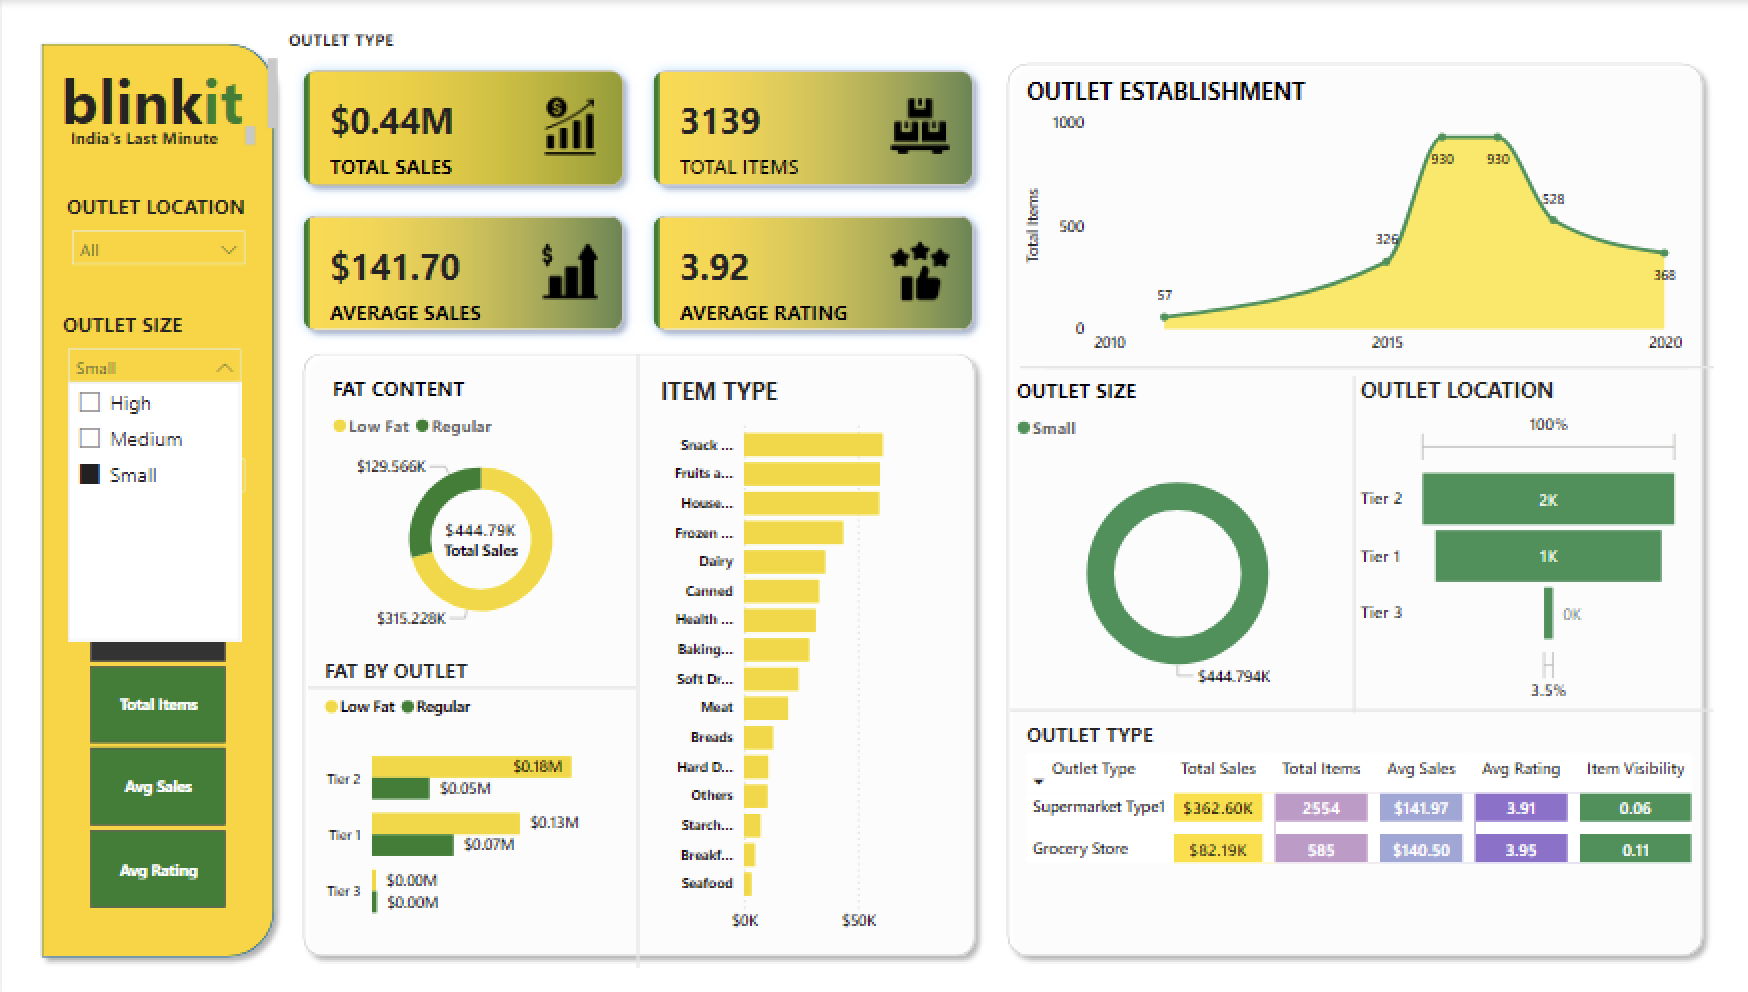

The page's visual inventory and layout, read from the dashboard file:
{"tool":"powerbi","page":{"name":"Dashboard","canvas":[1400,800],"ordinal":0},"visuals":[{"type":"shape","box":[22.7,25.2,204.3,749.2],"z":0},{"type":"textbox","box":[22.4,41.6,203.2,70.4],"z":1000},{"type":"textbox","box":[49.6,96,158.4,30.4],"z":2000},{"type":"cardVisual","title":"OUTLET TYPE","fields":{"Data":["BlinkIT Grocery Data.Total Sales","BlinkIT Grocery Data.Total Items","BlinkIT Grocery Data.Avg Sales","BlinkIT Grocery Data.Avg Rating"]},"box":[224.5,22.8,570.7,260.6],"z":3000},{"type":"shape","box":[232.1,273.9,555.4,500.3],"z":4000},{"type":"donutChart","title":"FAT CONTENT","fields":{"Y":["BlinkIT Grocery Data.Avg Rating"],"Category":["BlinkIT Grocery Data.Item Fat Content"]},"box":[259.2,299.2,248,214.4],"z":5000},{"type":"slicer","title":"METRICS","fields":{"Values":["Metrics.Metrics"]},"box":[44.8,435.2,158.4,297.6],"z":6000},{"type":"cardVisual","fields":{"Data":["BlinkIT Grocery Data.Total Sales"]},"box":[324.8,382.4,116.8,99.2],"z":7000},{"type":"clusteredBarChart","title":"FAT BY OUTLET","fields":{"Y":["BlinkIT Grocery Data.Avg Rating"],"Series":["BlinkIT Grocery Data.Item Fat Content"],"Category":["BlinkIT Grocery Data.Outlet Location Type"]},"box":[252.8,524.8,249.6,230.4],"z":8000},{"type":"shape","box":[245.4,545.9,262.5,9.5],"z":9000},{"type":"shape","box":[502.4,283.2,12.8,491.2],"z":10000},{"type":"clusteredBarChart","title":"ITEM TYPE","fields":{"Y":["BlinkIT Grocery Data.Avg Rating"],"Category":["BlinkIT Grocery Data.Item Type"]},"box":[521.6,299.2,236.8,456],"z":11000},{"type":"shape","box":[795.1,41.8,574.5,732.3],"z":12000},{"type":"lineChart","title":"OUTLET ESTABLISHMENT","fields":{"Category":["BlinkIT Grocery Data.Outlet Establishment Year"],"Y":["BlinkIT Grocery Data.Total Items"]},"box":[814.1,59,534.5,234],"z":13000},{"type":"shape","box":[814.1,283.4,534.5,20.9],"z":14000},{"type":"donutChart","title":"OUTLET SIZE","fields":{"Y":["BlinkIT Grocery Data.Total Sales"],"Category":["BlinkIT Grocery Data.Outlet Size"]},"box":[806.5,300.5,268.2,266.3],"z":15000},{"type":"shape","box":[835.1,283.4,534.5,20.9],"z":16000},{"type":"shape","box":[1074.7,300.5,13.3,270.1],"z":17000},{"type":"funnel","title":"OUTLET LOCATION","fields":{"Y":["BlinkIT Grocery Data.Total Items"],"Category":["BlinkIT Grocery Data.Outlet Location Type"]},"box":[1082.3,298.6,266.3,268.2],"z":18000},{"type":"pivotTable","title":"OUTLET TYPE","fields":{"Rows":["BlinkIT Grocery Data.Outlet Type"],"Values":["BlinkIT Grocery Data.Total Sales","BlinkIT Grocery Data.Total Items","BlinkIT Grocery Data.Avg Sales","BlinkIT Grocery Data.Avg Rating","Avg(BlinkIT Grocery Data.Item Visibility)"]},"box":[814.1,570.7,568.8,203.5],"z":19000},{"type":"shape","box":[806.5,566.8,563,3.8],"z":20000},{"type":"slicer","title":"OUTLET LOCATION","fields":{"Values":["BlinkIT Grocery Data.Outlet Location Type"]},"box":[45.7,154.1,157.9,70.4],"z":20001},{"type":"slicer","title":"OUTLET SIZE","fields":{"Values":["BlinkIT Grocery Data.Outlet Size"]},"box":[43.8,247.3,157.9,70.4],"z":20002},{"type":"slicer","title":"ITEM TYPE","fields":{"Values":["BlinkIT Grocery Data.Item Type"]},"box":[45.7,336.7,157.9,70.4],"z":20003}]}

Visuals, with their boxes in screenshot pixels (x1, y1, x2, y2), scaled from the page's 1400x800 canvas onto the 1748x992 screenshot:
shape: [x1=28, y1=31, x2=283, y2=960]
textbox: [x1=28, y1=52, x2=282, y2=139]
textbox: [x1=62, y1=119, x2=260, y2=157]
"OUTLET TYPE" cardVisual: [x1=280, y1=28, x2=993, y2=351]
shape: [x1=290, y1=340, x2=983, y2=960]
"FAT CONTENT" donutChart: [x1=324, y1=371, x2=633, y2=637]
"METRICS" slicer: [x1=56, y1=540, x2=254, y2=909]
cardVisual - BlinkIT Grocery Data.Total Sales: [x1=406, y1=474, x2=551, y2=597]
"FAT BY OUTLET" clusteredBarChart: [x1=316, y1=651, x2=627, y2=936]
shape: [x1=306, y1=677, x2=634, y2=689]
shape: [x1=627, y1=351, x2=643, y2=960]
"ITEM TYPE" clusteredBarChart: [x1=651, y1=371, x2=947, y2=936]
shape: [x1=993, y1=52, x2=1710, y2=960]
"OUTLET ESTABLISHMENT" lineChart: [x1=1016, y1=73, x2=1684, y2=363]
shape: [x1=1016, y1=351, x2=1684, y2=377]
"OUTLET SIZE" donutChart: [x1=1007, y1=373, x2=1342, y2=703]
shape: [x1=1043, y1=351, x2=1710, y2=377]
shape: [x1=1342, y1=373, x2=1358, y2=708]
"OUTLET LOCATION" funnel: [x1=1351, y1=370, x2=1684, y2=703]
"OUTLET TYPE" pivotTable: [x1=1016, y1=708, x2=1727, y2=960]
shape: [x1=1007, y1=703, x2=1710, y2=708]
"OUTLET LOCATION" slicer: [x1=57, y1=191, x2=254, y2=278]
"OUTLET SIZE" slicer: [x1=55, y1=307, x2=252, y2=394]
"ITEM TYPE" slicer: [x1=57, y1=418, x2=254, y2=505]
